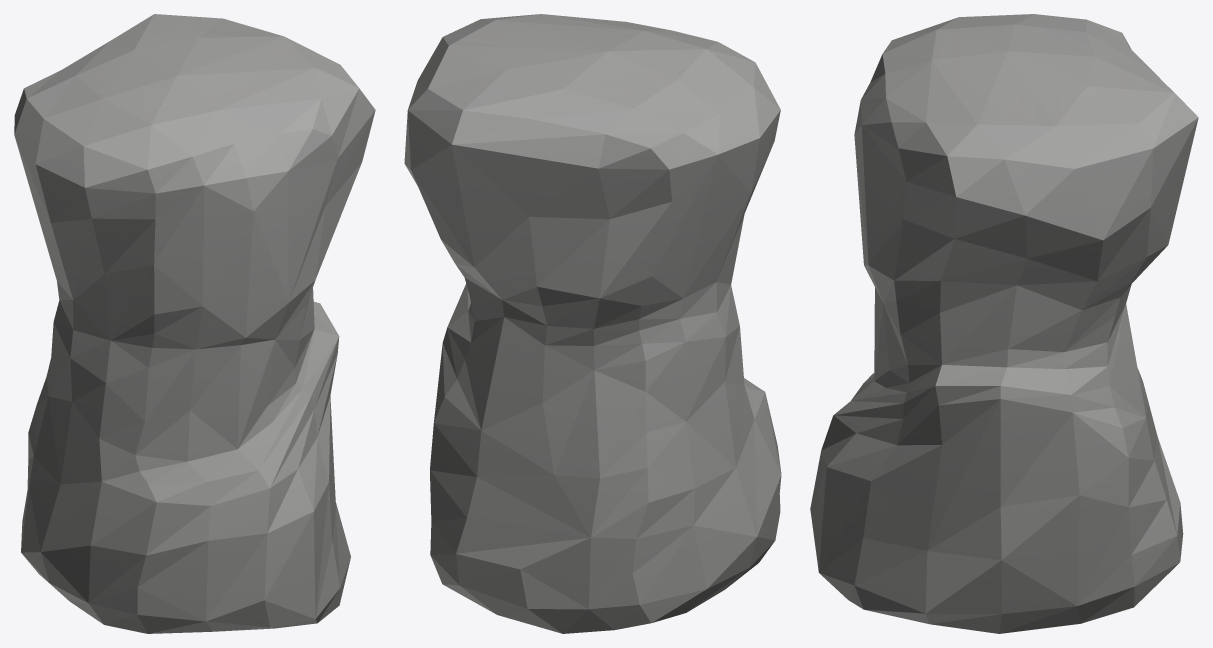
The model's file is Cavern_Wall_Corner_Sml-01.fbx.
3 views of the same model, side by side, from view 1: azimuth 30°, elevation 25°; view 2: azimuth 150°, elevation 25°; view 3: azimuth 270°, elevation 25° (orthographic). The views are drawn at different scales.
Visible parts, largest first — view 1: Cavern_Wall_Corner_Sml-01; view 2: Cavern_Wall_Corner_Sml-01; view 3: Cavern_Wall_Corner_Sml-01.
Boxes of the visible parts, bbox=[...] form: Cavern_Wall_Corner_Sml-01: bbox=[14, 14, 375, 633]; Cavern_Wall_Corner_Sml-01: bbox=[404, 14, 781, 633]; Cavern_Wall_Corner_Sml-01: bbox=[810, 14, 1198, 633].
Bounding box in the file's own units: 754 × 1204 × 780.
1 material, 1 textured.
